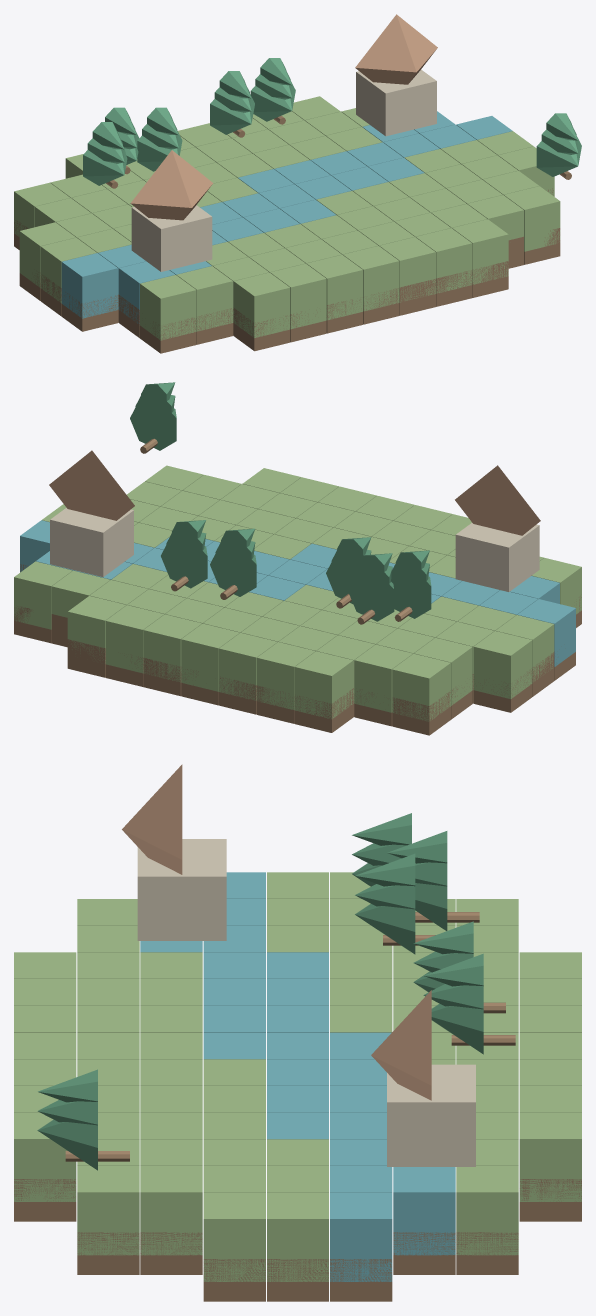
Rendered from water_guardian_island.glb.
3 views of the same model, one above another, from view 1: azimuth 30°, elevation 25°; view 2: azimuth 150°, elevation 25°; view 3: azimuth 270°, elevation 25° (orthographic). The views are drawn at different scales.
Parts seen in each view (by area): view 1: water_219, water_221, water_220, water_222, water_005, water_051, water_019, water_033, water_105, water_087, water_069, water_141 (+100 smaller); view 2: water_219, water_221, water_001, water_035, water_222, water_220, water_007, water_021, water_125, water_089, water_053, water_175 (+89 smaller); view 3: water_219, water_221, water_189, water_143, water_185, water_193, water_187, water_175, water_177, water_191, water_159, water_220 (+105 smaller).
Boxes of the visible parts, <box> form: water_219: <box>131,205,212,271</box>; water_221: <box>356,69,436,136</box>; water_220: <box>130,150,213,220</box>; water_222: <box>355,14,437,84</box>; water_005: <box>61,253,118,318</box>; water_051: <box>233,272,290,337</box>; water_019: <box>140,275,196,340</box>; water_033: <box>176,266,232,331</box>; water_105: <box>343,246,399,311</box>; water_087: <box>306,254,362,320</box>; water_069: <box>270,263,326,329</box>; water_141: <box>416,228,472,293</box>; water_219: <box>455,523,539,591</box>; water_221: <box>50,508,133,577</box>; water_001: <box>473,631,532,699</box>; water_035: <box>294,651,353,719</box>; water_222: <box>49,450,134,520</box>; water_220: <box>455,465,540,535</box>; water_007: <box>392,654,450,721</box>; water_021: <box>354,644,412,712</box>; water_125: <box>105,605,164,673</box>; water_089: <box>181,623,239,691</box>; water_053: <box>257,642,315,709</box>; water_175: <box>14,561,72,629</box>; water_219: <box>137,839,226,940</box>; water_221: <box>387,1064,475,1166</box>; water_189: <box>330,1192,392,1281</box>; water_143: <box>519,1112,581,1201</box>; water_185: <box>140,1166,202,1255</box>; water_193: <box>203,1192,265,1281</box>; water_187: <box>77,1166,139,1255</box>; water_175: <box>456,1166,518,1255</box>; water_177: <box>393,1167,455,1255</box>; water_191: <box>267,1192,328,1281</box>; water_159: <box>14,1112,76,1201</box>; water_220: <box>122,764,182,874</box>.
Size of the model in its own units: 9.22 by 3.11 by 6.38.
